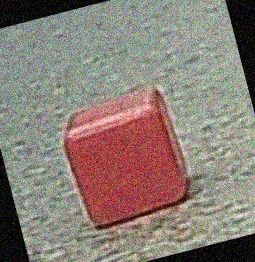orange_cube: (45, 83, 214, 233)
